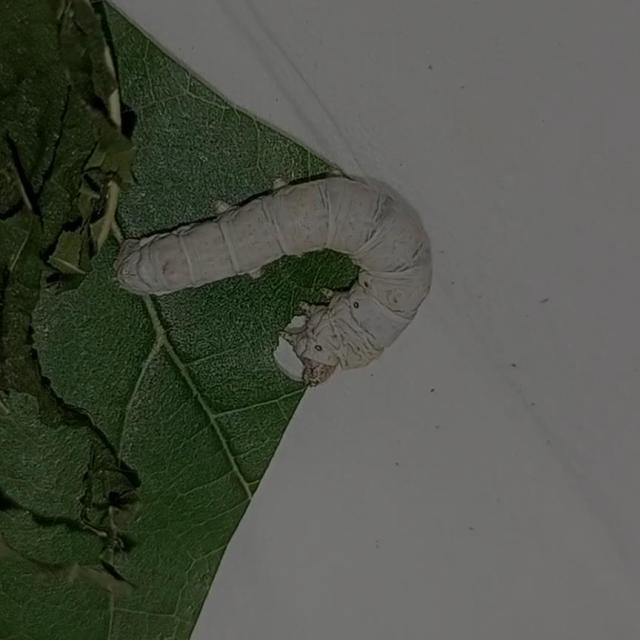Healthy: (108, 164, 436, 379)
